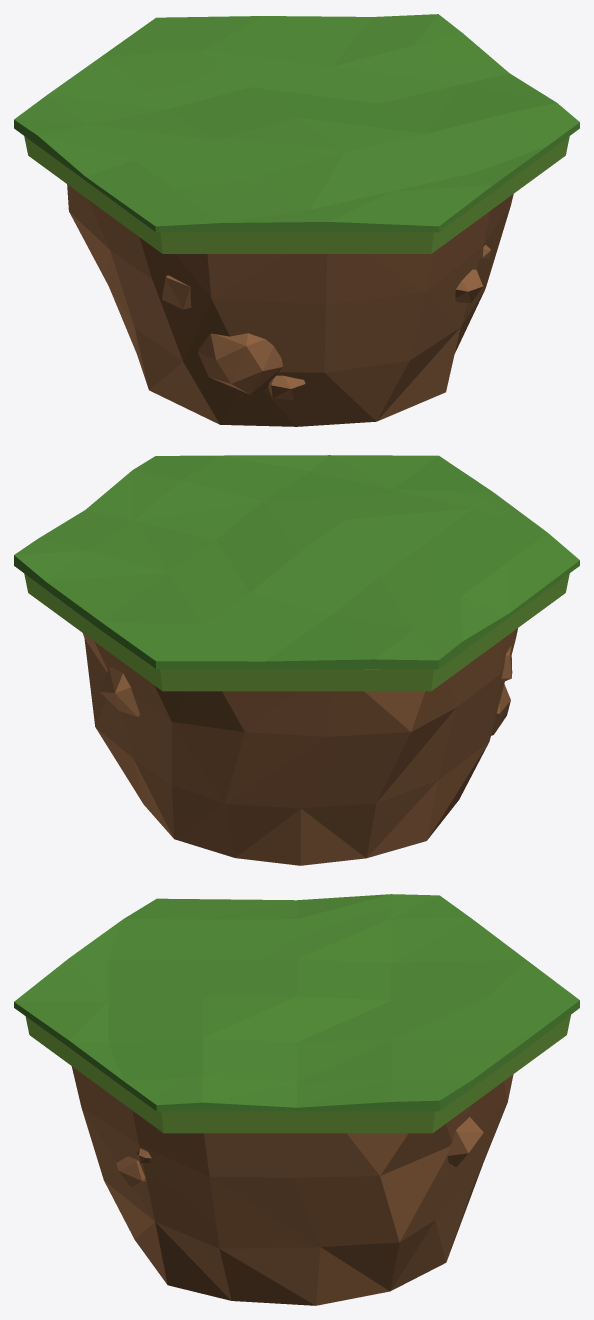
Rendered from hexa_land.glb.
3 renders of one model, top to bottom at view 1: azimuth 30°, elevation 25°; view 2: azimuth 150°, elevation 25°; view 3: azimuth 270°, elevation 25°, orthographic.
Visible parts, largest first — view 1: hexagon-land; view 2: hexagon-land; view 3: hexagon-land.
Boxes of the visible parts, <box> form: hexagon-land: <box>14,14,579,426</box>; hexagon-land: <box>14,455,579,865</box>; hexagon-land: <box>14,894,579,1305</box>.
Bounding box in the file's own units: 20 × 12.7 × 23.09.
1 material, 1 textured.
